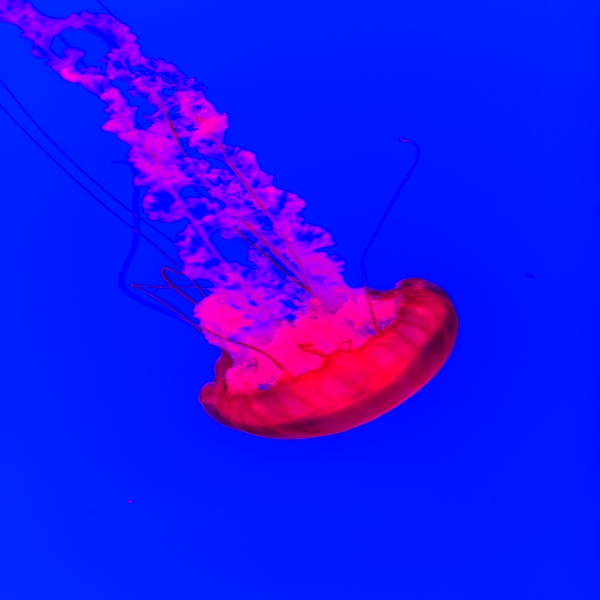Jellyfish: (5, 21, 460, 453)
